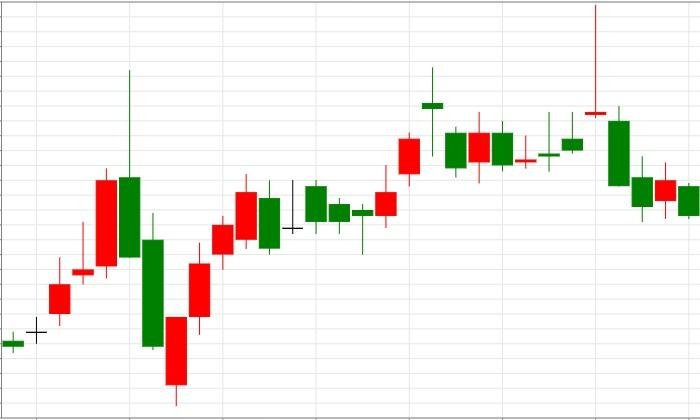evening_star_fall: (329, 68, 466, 255)
three_white_soldiers_rise: (119, 70, 234, 406)
